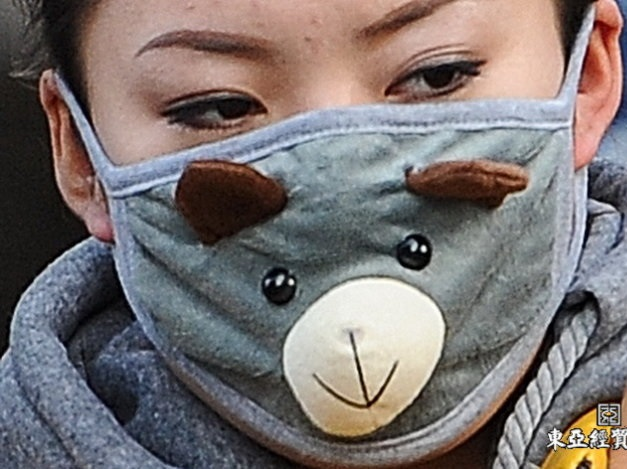face_mask: (103, 1, 584, 454)
